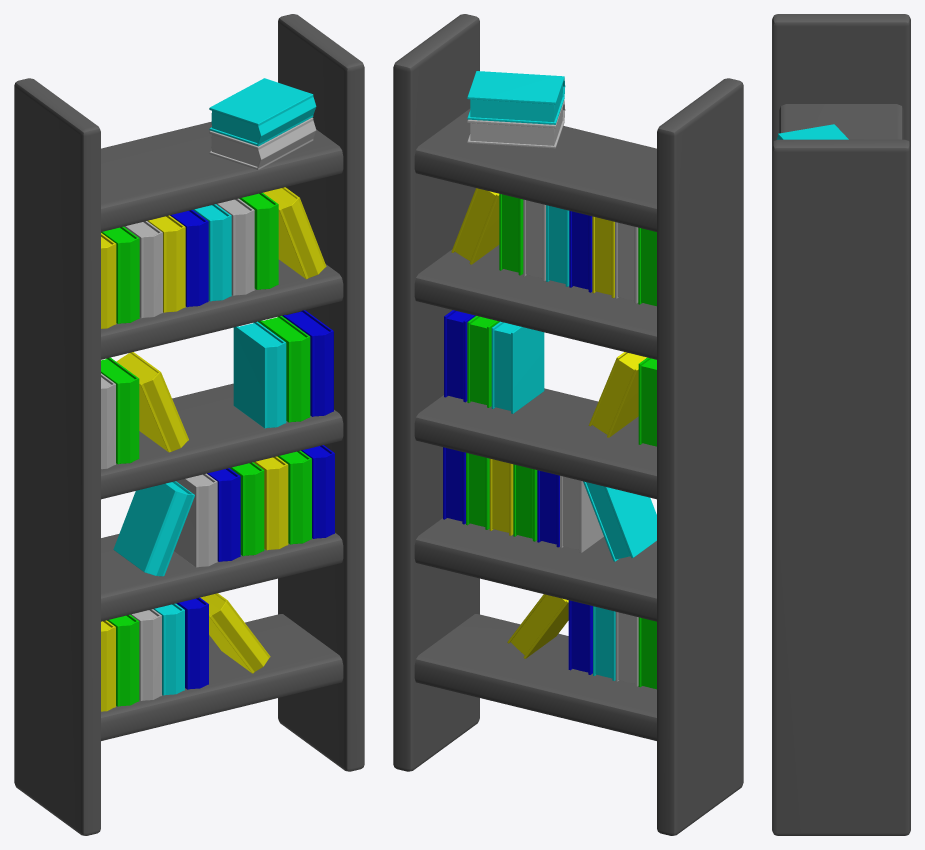
File: SM_Biblio.fbx
The picture shows the model from 3 angles, left to right: view 1: azimuth 30°, elevation 25°; view 2: azimuth 150°, elevation 25°; view 3: azimuth 270°, elevation 25°; orthographic projection. The views are drawn at different scales.
Visible parts, largest first — view 1: pCube41; view 2: pCube41; view 3: pCube41.
Boxes of the visible parts, left/top/right/bottom form: pCube41: left=14, top=14, right=364, bottom=835; pCube41: left=393, top=14, right=743, bottom=835; pCube41: left=772, top=14, right=910, bottom=835.
Bounding box in the file's own units: 102 × 243 × 44.27.
